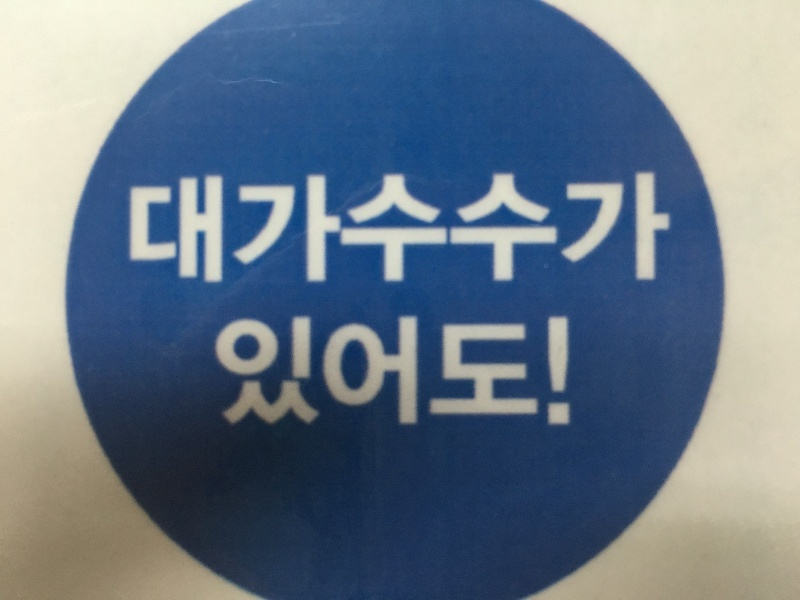text: (129, 169, 144, 291), (145, 169, 160, 291), (161, 169, 176, 291), (177, 169, 192, 291), (193, 169, 208, 291), (209, 169, 224, 291), (225, 169, 240, 291), (241, 169, 256, 291), (257, 169, 272, 291), (273, 169, 288, 291), (289, 169, 304, 291), (305, 169, 320, 291), (321, 169, 336, 291), (337, 169, 352, 291), (353, 169, 368, 291), (369, 169, 384, 291), (385, 169, 400, 291), (401, 169, 416, 291), (417, 169, 432, 291), (433, 169, 448, 291), (449, 169, 464, 291), (465, 169, 480, 291), (481, 169, 496, 291), (497, 169, 512, 291), (513, 169, 528, 291), (529, 169, 544, 291), (545, 169, 560, 291), (561, 169, 576, 291), (577, 169, 592, 291), (593, 169, 608, 291), (609, 169, 624, 291), (625, 169, 640, 291), (641, 169, 656, 291), (657, 169, 672, 291), (209, 312, 224, 430), (225, 312, 240, 430), (241, 312, 256, 430), (257, 312, 272, 430), (273, 312, 288, 430), (289, 312, 304, 430), (305, 312, 320, 430), (321, 312, 336, 430), (337, 312, 352, 430), (353, 312, 368, 430), (369, 312, 384, 430), (385, 312, 400, 430), (401, 312, 416, 430), (417, 312, 432, 430), (433, 312, 448, 430), (449, 312, 464, 430), (465, 312, 480, 430), (481, 312, 496, 430), (497, 312, 512, 430), (513, 312, 528, 430), (529, 312, 544, 430), (545, 312, 560, 430), (561, 312, 574, 430), (127, 169, 128, 291)
